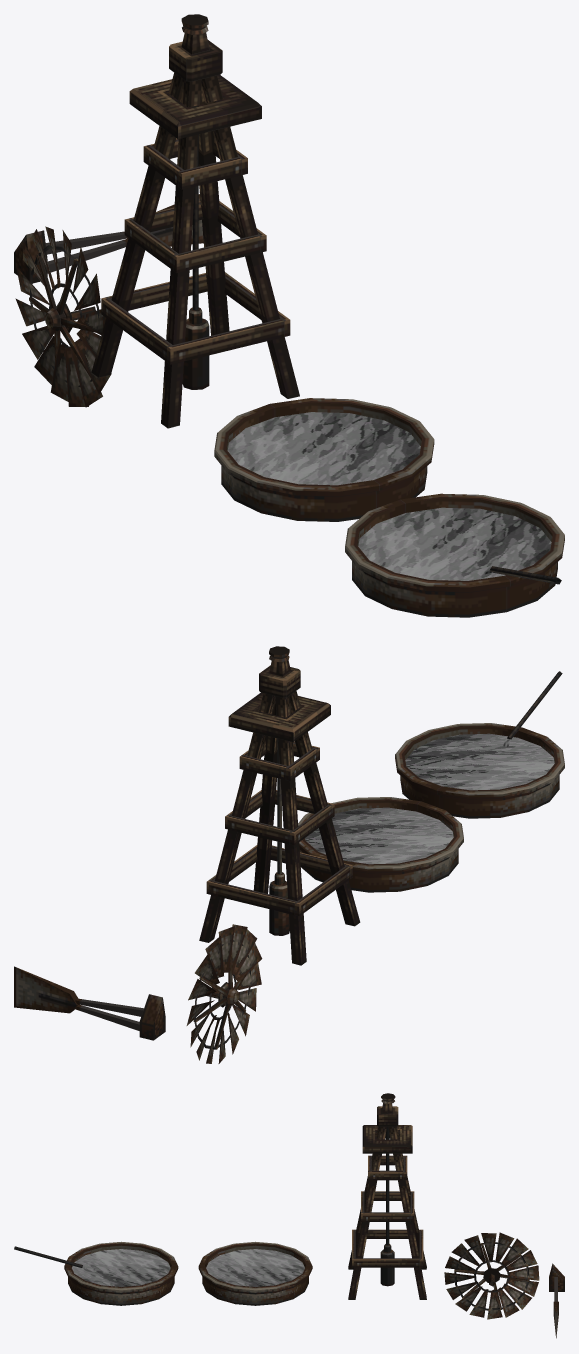
Rendered from EnvObjMD_Windmill_B.FBX.
3 views of the same model, one above another, from view 1: azimuth 30°, elevation 25°; view 2: azimuth 150°, elevation 25°; view 3: azimuth 270°, elevation 25° (orthographic). The views are drawn at different scales.
Parts seen in each view (by area): view 1: EnvObjMD_Windmill_B, EnvObjMD_Windmill_B_Pail_A, EnvObjMD_Windmill_B_Pail_A_NoStraw, EnvObjMD_Windmill_B_Impeller_A, EnvObjMD_Windmill_B_Impeller_B; view 2: EnvObjMD_Windmill_B, EnvObjMD_Windmill_B_Pail_A, EnvObjMD_Windmill_B_Pail_A_NoStraw, EnvObjMD_Windmill_B_Impeller_A, EnvObjMD_Windmill_B_Impeller_B; view 3: EnvObjMD_Windmill_B, EnvObjMD_Windmill_B_Pail_A, EnvObjMD_Windmill_B_Pail_A_NoStraw, EnvObjMD_Windmill_B_Impeller_A, EnvObjMD_Windmill_B_Impeller_B.
Part boxes in pixels (<box>): EnvObjMD_Windmill_B: <box>91,14,299,428</box>; EnvObjMD_Windmill_B_Pail_A: <box>345,493,564,617</box>; EnvObjMD_Windmill_B_Pail_A_NoStraw: <box>214,398,434,521</box>; EnvObjMD_Windmill_B_Impeller_A: <box>15,226,111,407</box>; EnvObjMD_Windmill_B_Impeller_B: <box>14,194,203,283</box>; EnvObjMD_Windmill_B: <box>199,646,360,965</box>; EnvObjMD_Windmill_B_Pail_A: <box>395,671,564,818</box>; EnvObjMD_Windmill_B_Pail_A_NoStraw: <box>298,797,463,892</box>; EnvObjMD_Windmill_B_Impeller_A: <box>186,924,262,1063</box>; EnvObjMD_Windmill_B_Impeller_B: <box>14,966,165,1040</box>; EnvObjMD_Windmill_B: <box>348,1093,426,1299</box>; EnvObjMD_Windmill_B_Pail_A: <box>14,1241,178,1305</box>; EnvObjMD_Windmill_B_Pail_A_NoStraw: <box>198,1241,312,1305</box>; EnvObjMD_Windmill_B_Impeller_A: <box>444,1232,539,1319</box>; EnvObjMD_Windmill_B_Impeller_B: <box>549,1263,564,1338</box>.
Bounding box in the file's own units: 460 × 715 × 1548.
